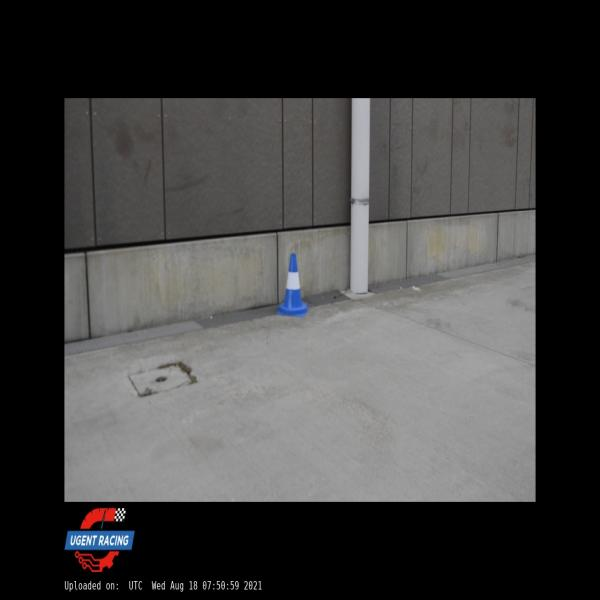blue_cone: (276, 254, 309, 317)
